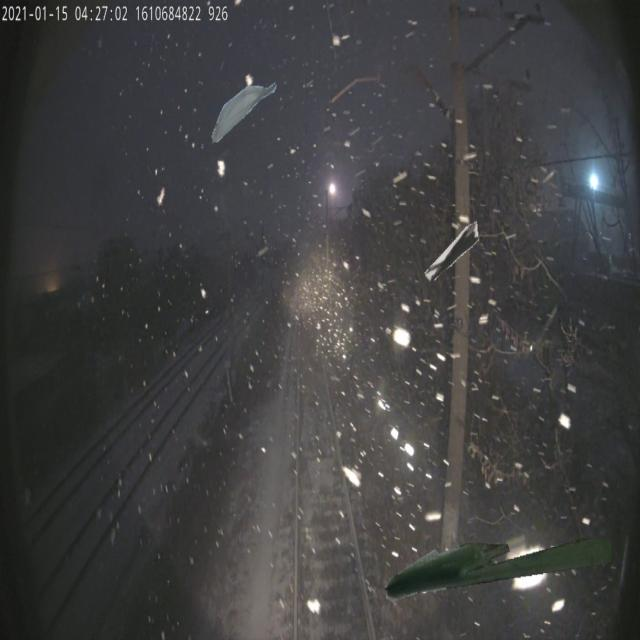floating object: (385, 538, 612, 602), (210, 80, 277, 144), (426, 227, 481, 284)
